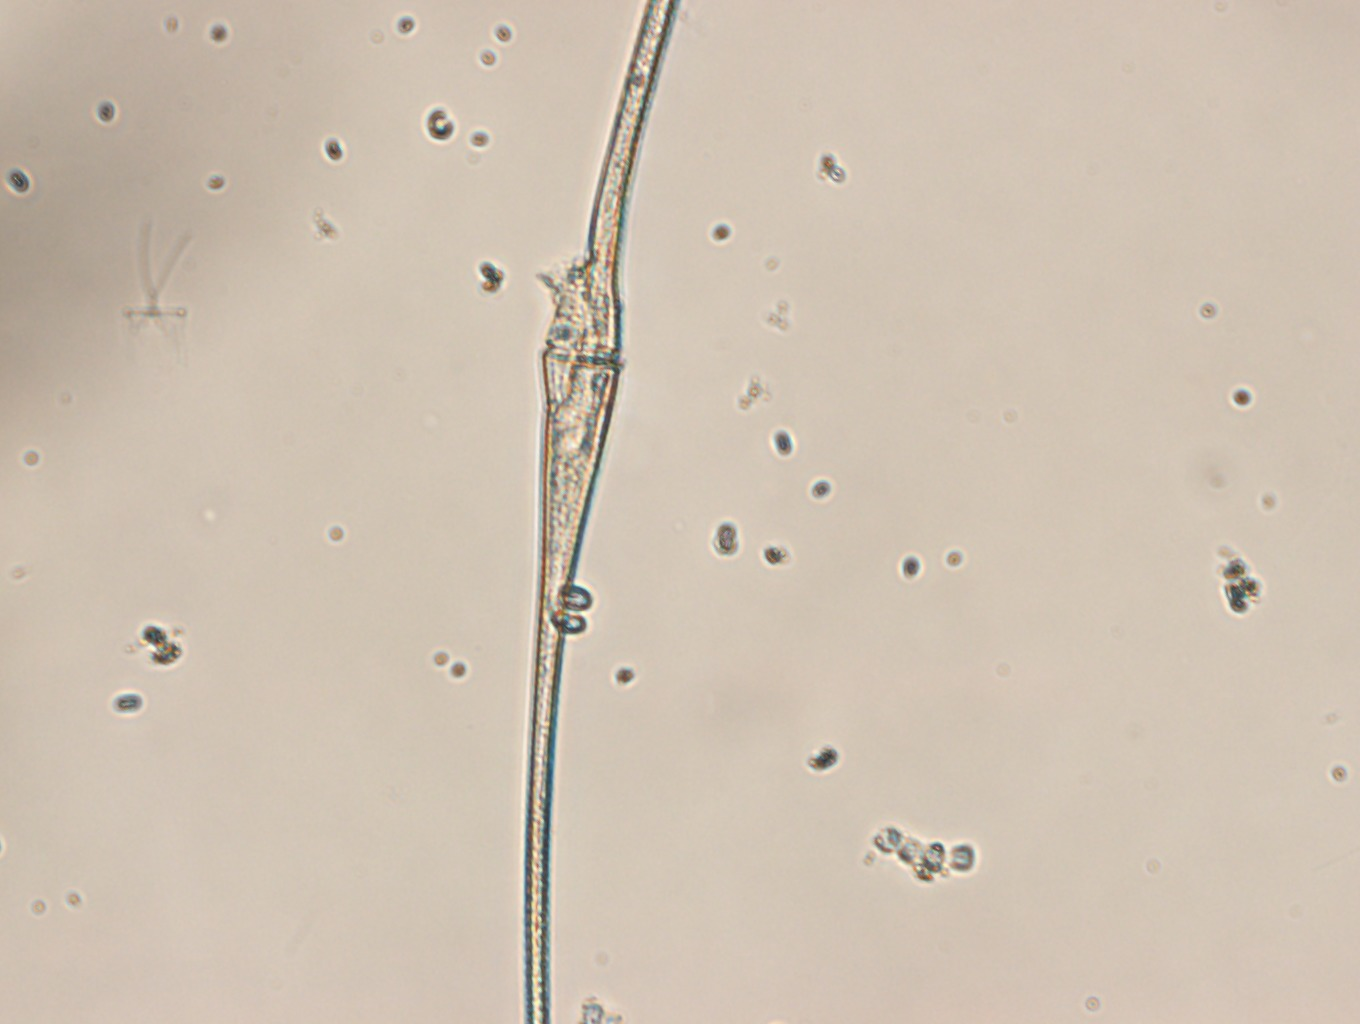ceratium fusus: (519, 1, 681, 1024)
